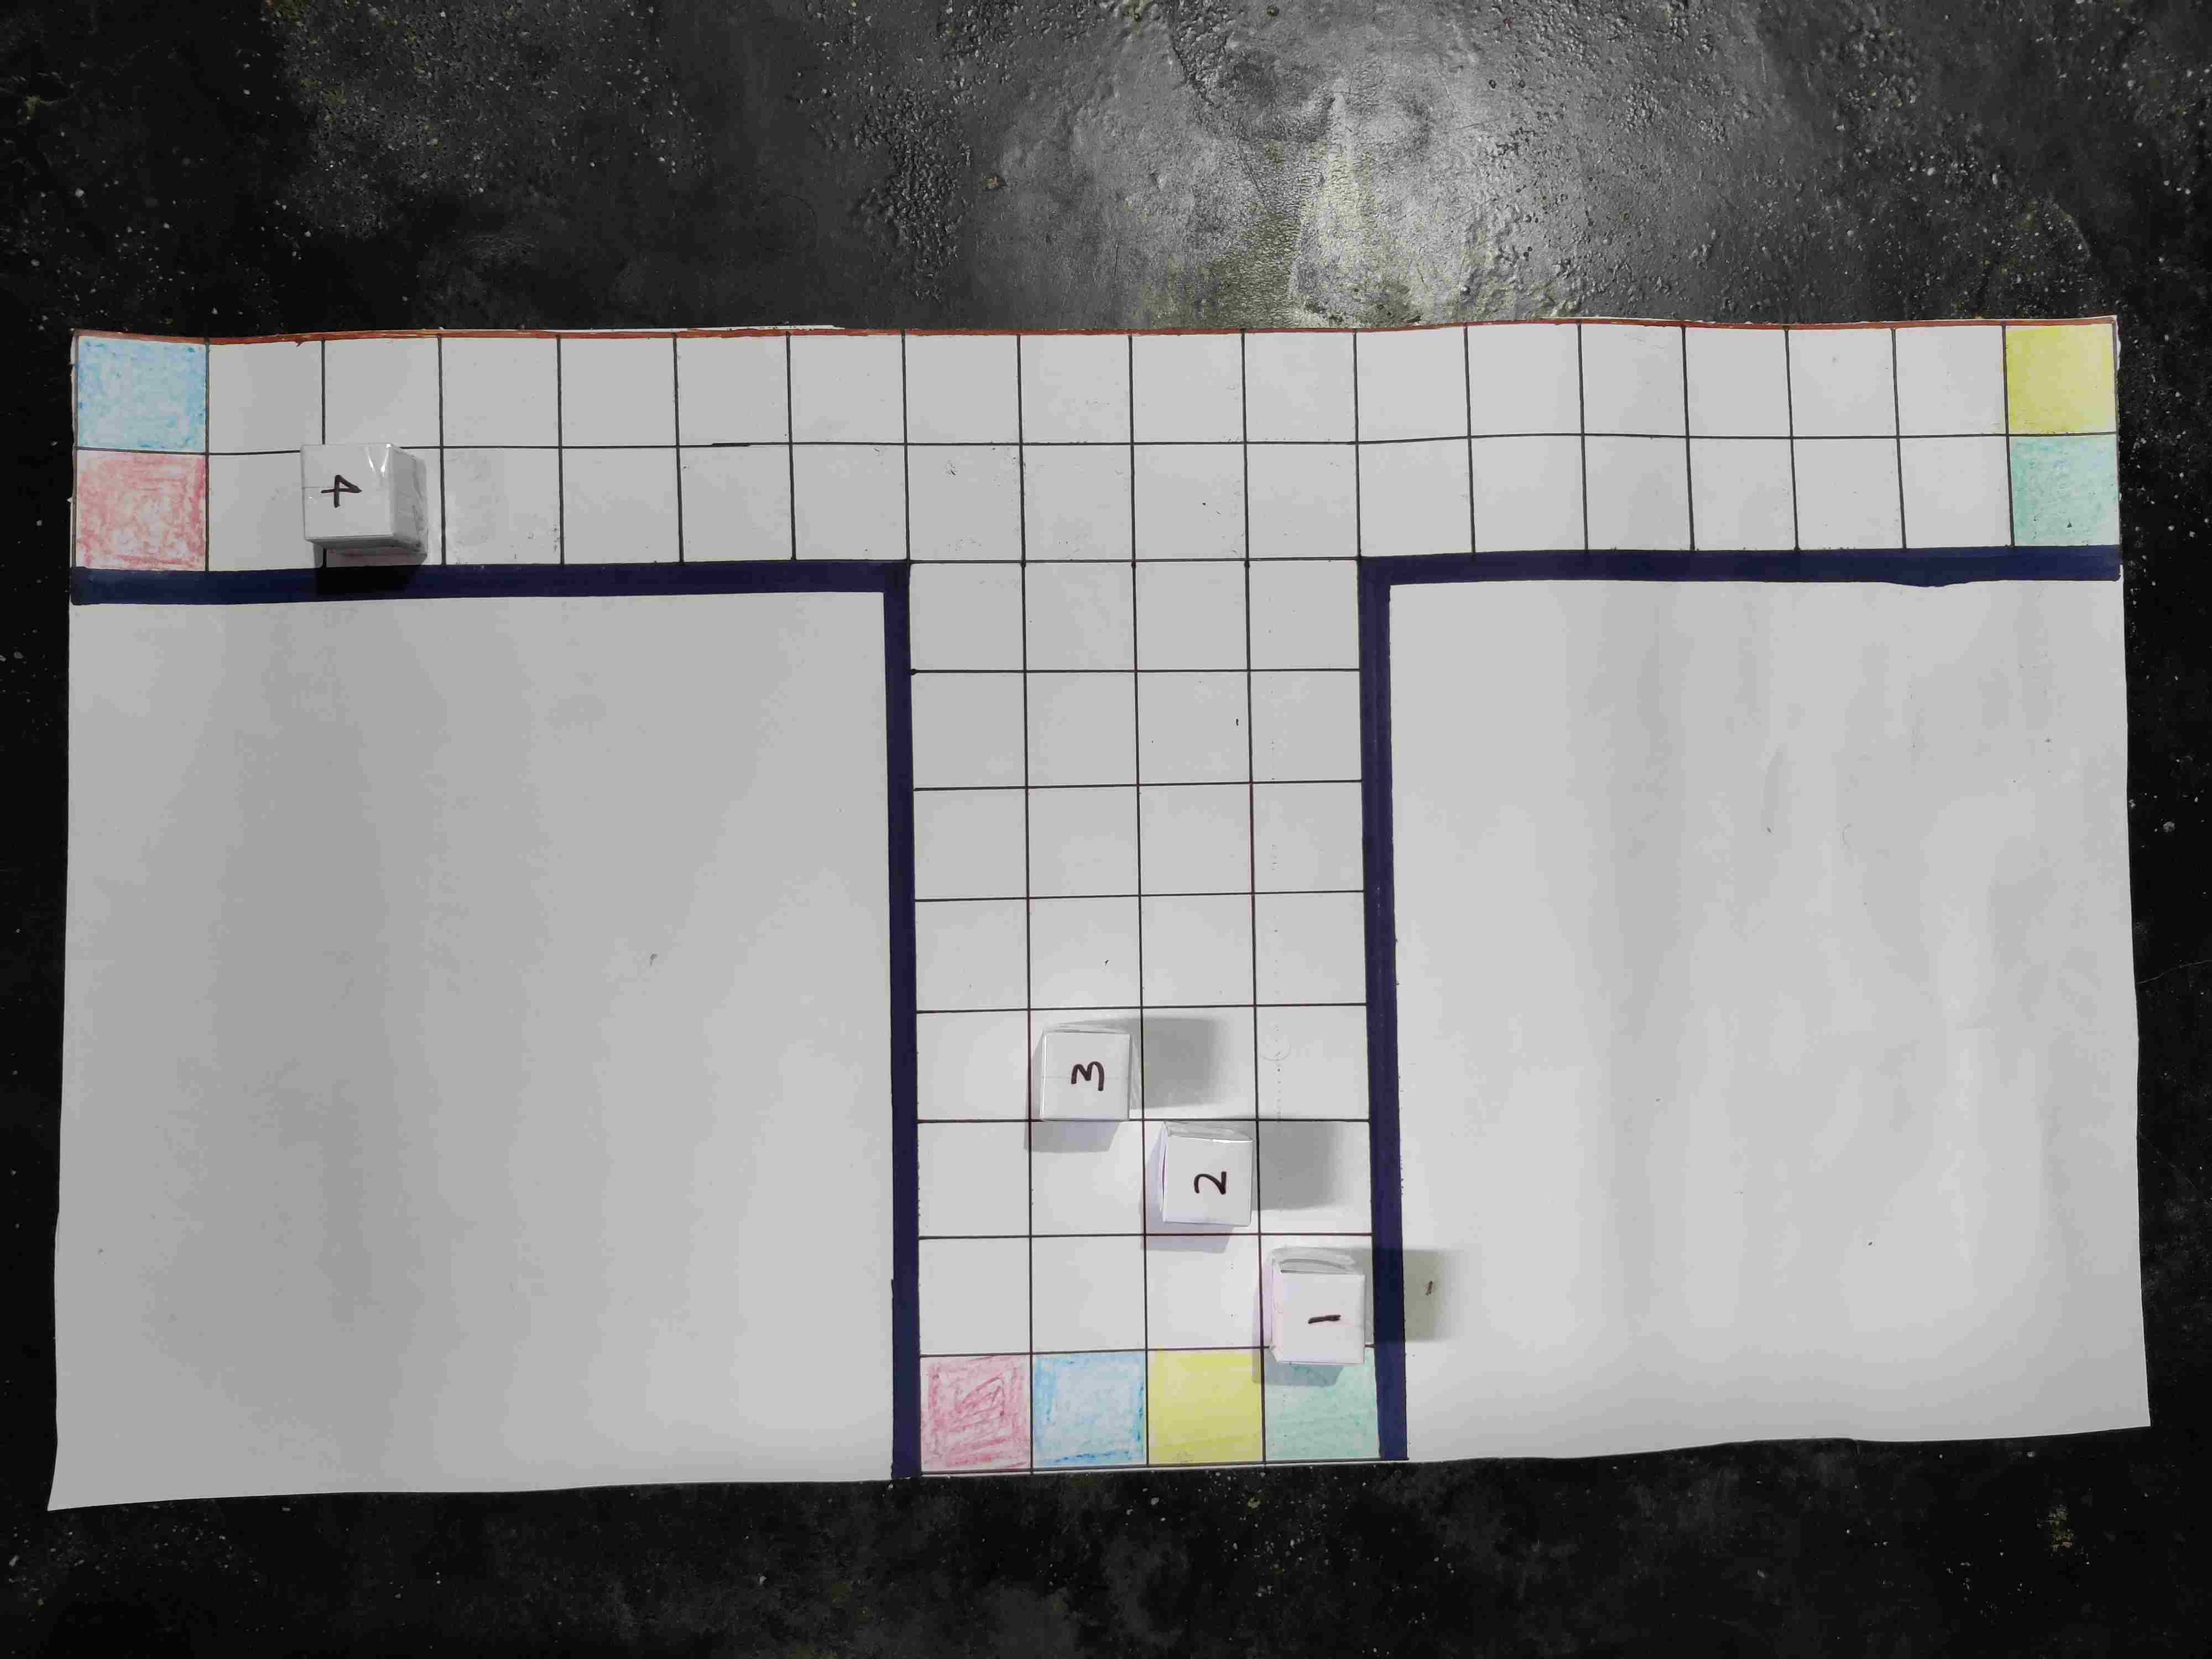arena: (197, 199, 2156, 1284)
bot: (1066, 1070, 1157, 1159), (1975, 1084, 2059, 1168), (1195, 1093, 1278, 1175), (972, 769, 1050, 856)
